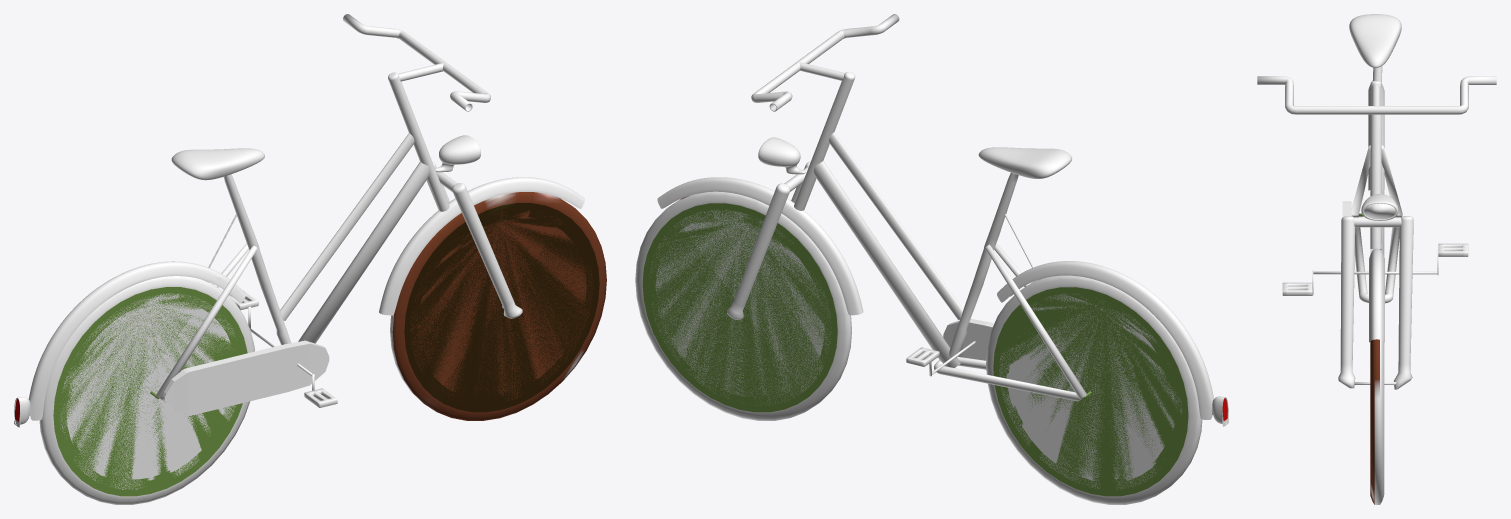
File: bike_mint.fbx
3 renders of one model, left to right at view 1: azimuth 30°, elevation 25°; view 2: azimuth 150°, elevation 25°; view 3: azimuth 270°, elevation 25°, orthographic.
Visible parts, largest first — view 1: BikePristineGreen; view 2: BikePristineGreen; view 3: BikePristineGreen.
Boxes of the visible parts, x1,y1,x2,y2 form: BikePristineGreen: (14,14,606,504); BikePristineGreen: (635,14,1228,504); BikePristineGreen: (1257,14,1496,504).
Bounding box in the file's own units: 82.92 × 51.17 × 29.74.
